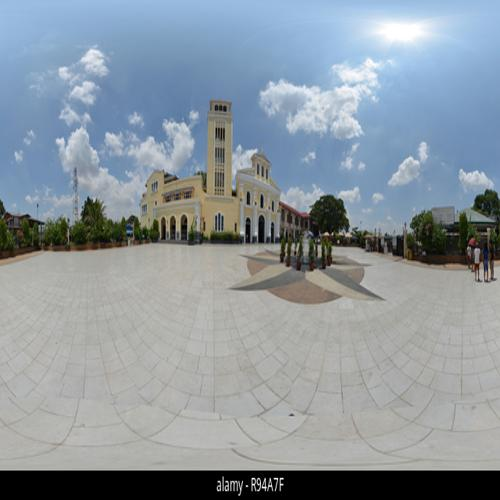Manaoag Church: (189, 90, 284, 254)
